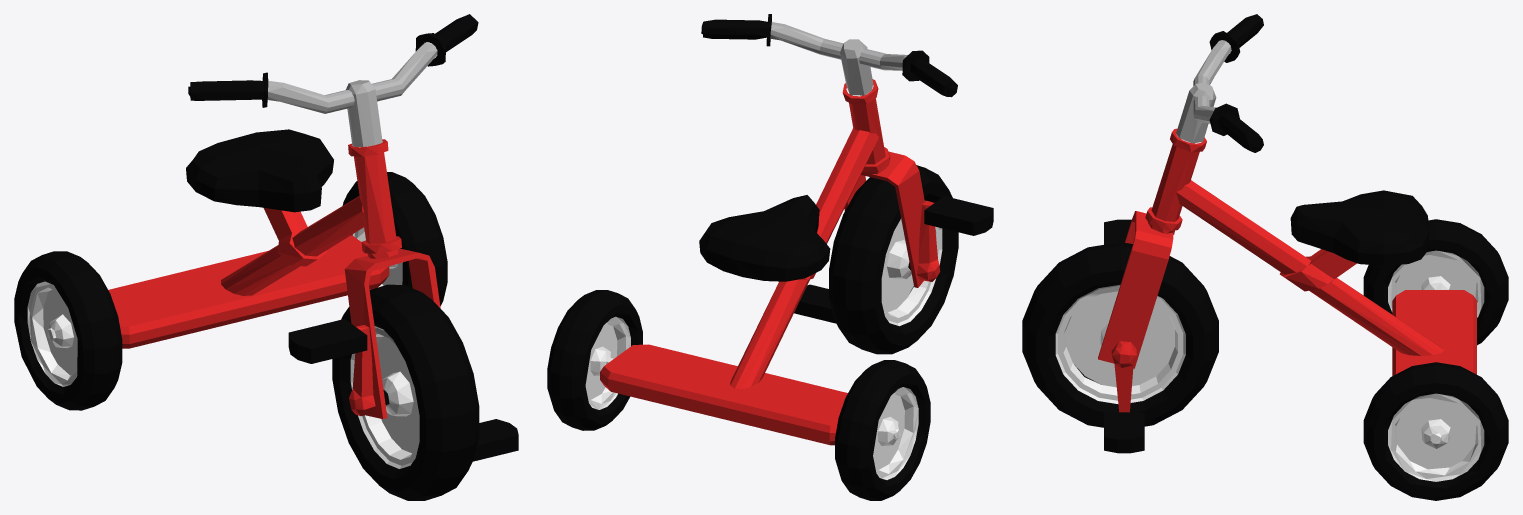
Rendered from tricycle.glb.
3 renders of one model, left to right at view 1: azimuth 30°, elevation 25°; view 2: azimuth 150°, elevation 25°; view 3: azimuth 270°, elevation 25°, orthographic. The views are drawn at different scales.
Visible parts, largest first — view 1: Tricycle; view 2: Tricycle; view 3: Tricycle.
Boxes of the visible parts, x1,y1,x2,y2 form: Tricycle: [14, 14, 518, 500]; Tricycle: [547, 14, 993, 500]; Tricycle: [1022, 14, 1508, 500].
Bounding box in the file's own units: 135 × 141 × 173.
1 material, 1 textured.
